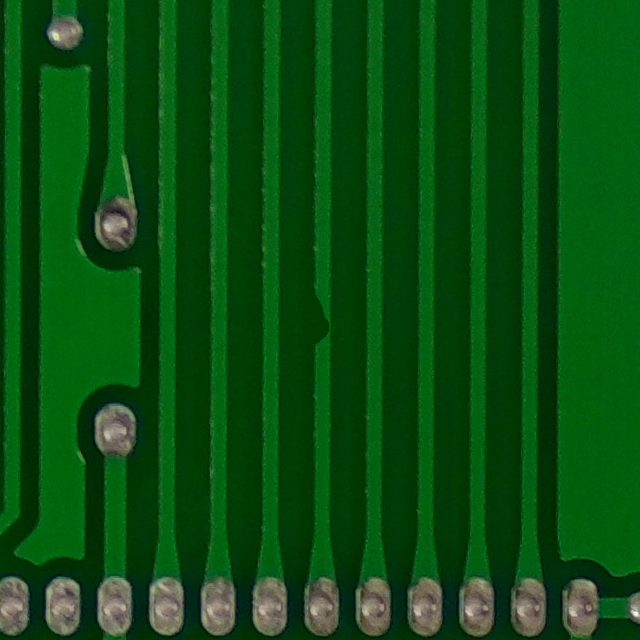mouse_bite: (292, 273, 348, 367)
